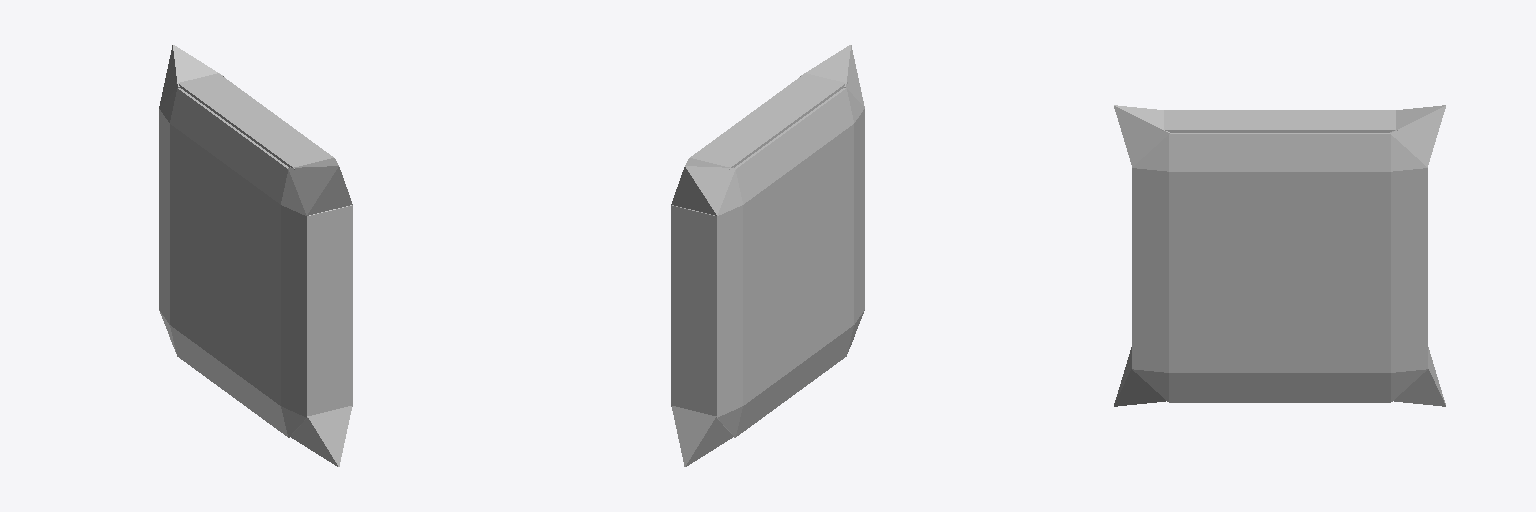
Rendered from SquarePillow.obj.
The picture shows the model from 3 angles: view 1: azimuth 30°, elevation 25°; view 2: azimuth 150°, elevation 25°; view 3: azimuth 270°, elevation 25°; orthographic projection.
Visible parts, largest first — view 1: block_rounded_58, block_default_65, block_piramid_62, block_piramid_61, block_piramid_63; view 2: block_rounded_58, block_default_65, block_piramid_63, block_piramid_64, block_piramid_62; view 3: block_rounded_58, block_default_65, block_piramid_62, block_piramid_63, block_piramid_61, block_piramid_64.
Part boxes in pixels (x1,y1,x2,y2): block_rounded_58: (159, 88, 352, 437); block_default_65: (176, 73, 333, 169); block_piramid_62: (288, 158, 352, 215); block_piramid_61: (290, 406, 351, 466); block_piramid_63: (159, 45, 223, 106); block_rounded_58: (671, 88, 864, 437); block_default_65: (690, 73, 847, 169); block_piramid_63: (671, 158, 735, 215); block_piramid_64: (672, 406, 733, 466); block_piramid_62: (800, 45, 864, 106); block_rounded_58: (1132, 133, 1427, 402); block_default_65: (1162, 110, 1397, 132); block_piramid_62: (1114, 105, 1169, 166); block_piramid_63: (1390, 105, 1445, 166); block_piramid_61: (1114, 347, 1165, 406); block_piramid_64: (1394, 347, 1445, 406).
Bounding box in the file's own units: 2.4 × 11.25 × 11.25.